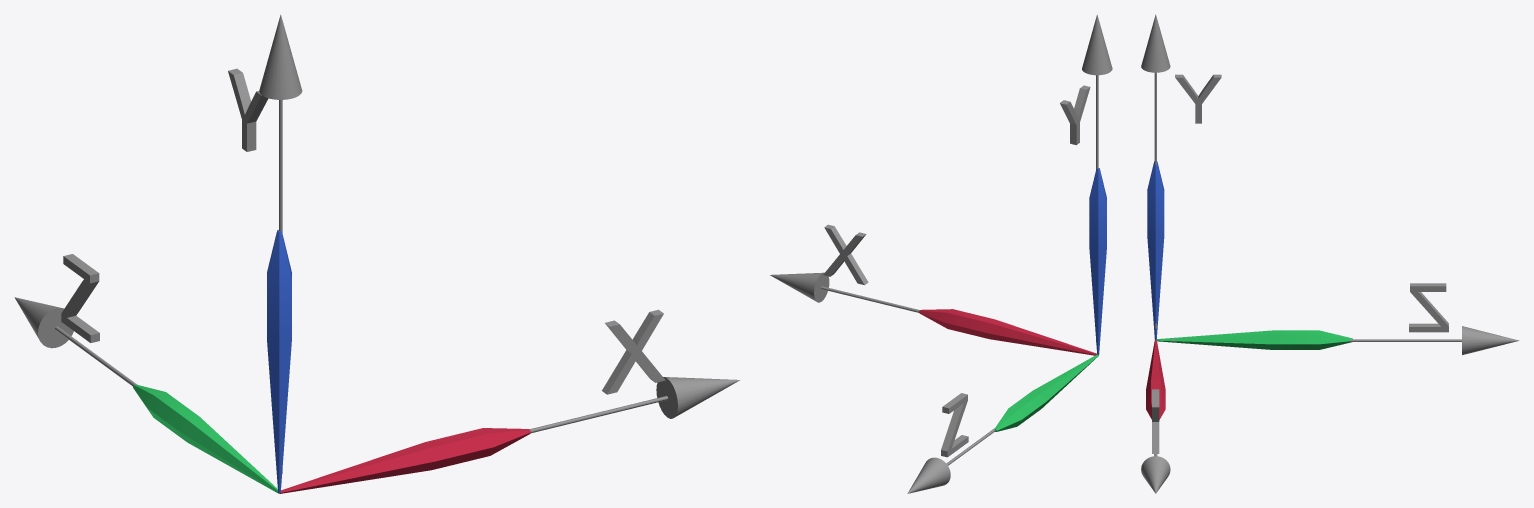
Rendered from xyz-02.FBX.
3 views of the same model, side by side, from view 1: azimuth 30°, elevation 25°; view 2: azimuth 150°, elevation 25°; view 3: azimuth 270°, elevation 25° (orthographic). The views are drawn at different scales.
Parts seen in each view (by area): view 1: XYZ-02; view 2: XYZ-02; view 3: XYZ-02.
Part boxes in pixels (<box>): XYZ-02: <box>14,14,739,493</box>; XYZ-02: <box>770,14,1112,493</box>; XYZ-02: <box>1141,14,1519,493</box>.
Size of the model in its own units: 51.27 by 50.95 by 51.44.
